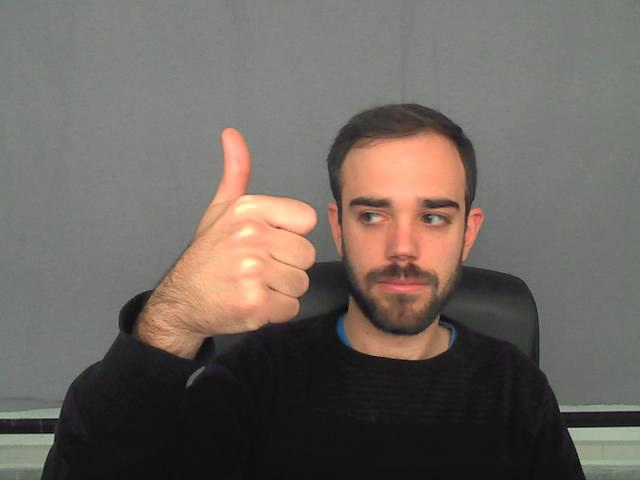thumbs-up: (189, 124, 320, 323)
